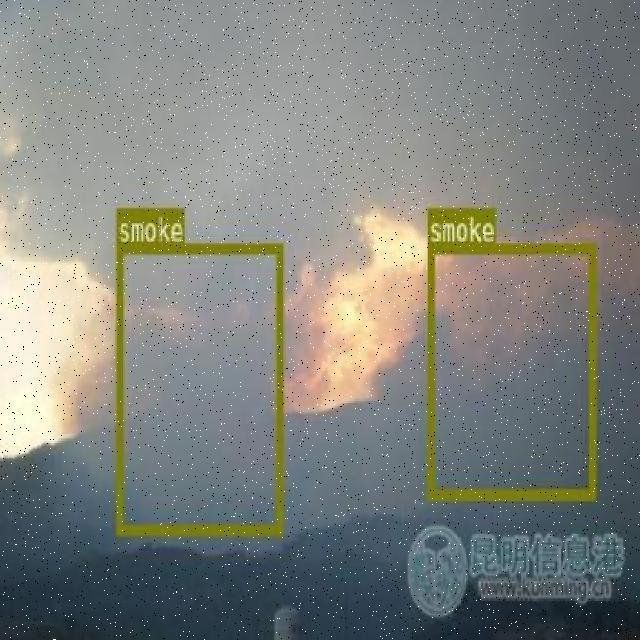Smoke: (148, 243, 249, 532), (459, 243, 563, 497)
